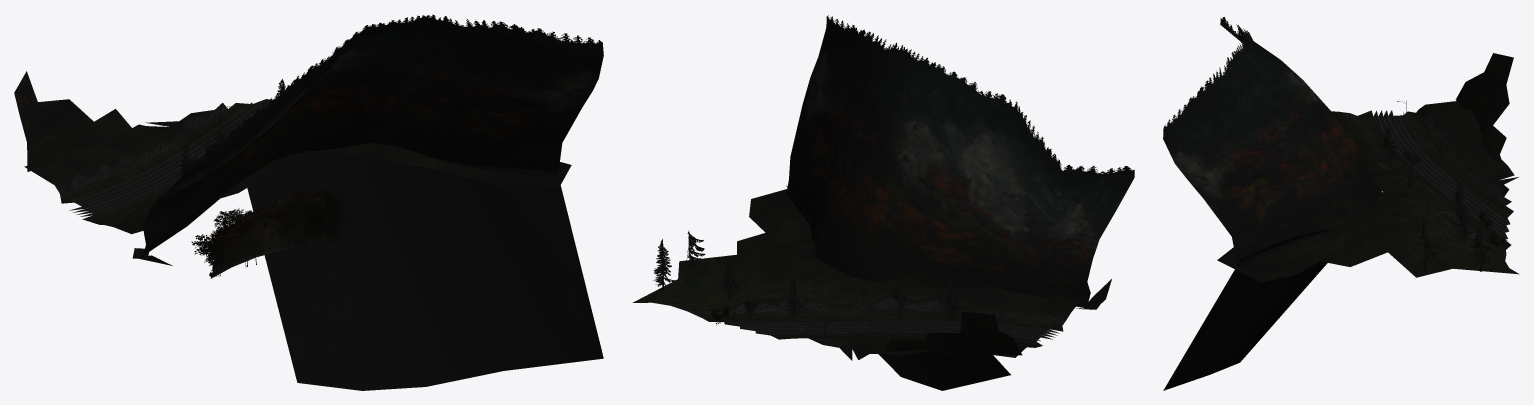
Rendered from cell_-5_-10.gltf.
The picture shows the model from 3 angles, left to right: view 1: azimuth 30°, elevation 25°; view 2: azimuth 150°, elevation 25°; view 3: azimuth 270°, elevation 25°; orthographic projection. The views are drawn at different scales.
Visible parts, largest first — view 1: cell_-5_-10; view 2: cell_-5_-10; view 3: cell_-5_-10.
Boxes of the visible parts, <box> form: cell_-5_-10: <box>14,14,603,390</box>; cell_-5_-10: <box>632,15,1134,390</box>; cell_-5_-10: <box>1163,17,1519,390</box>.
Bounding box in the file's own units: 282 × 237 × 245.
26 materials, 26 textured.
